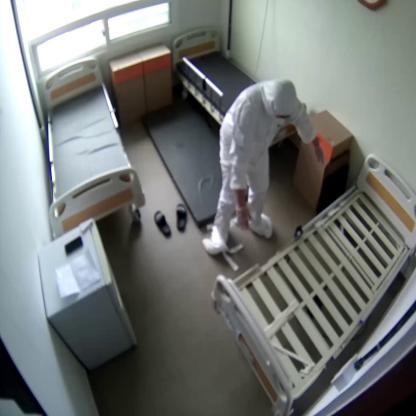Person: (208, 79, 324, 252)
